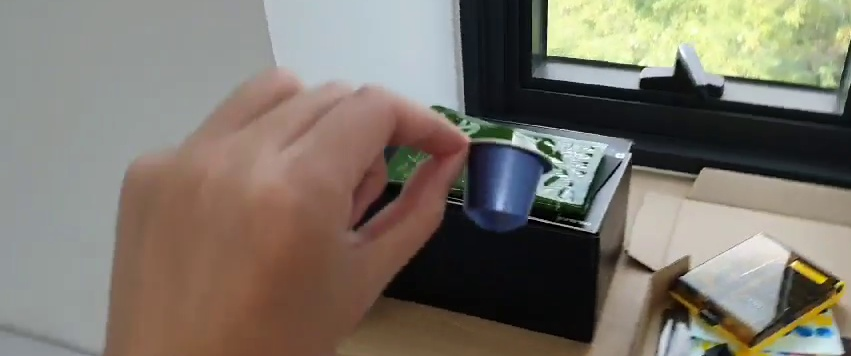capsule_7: (460, 135, 553, 230)
